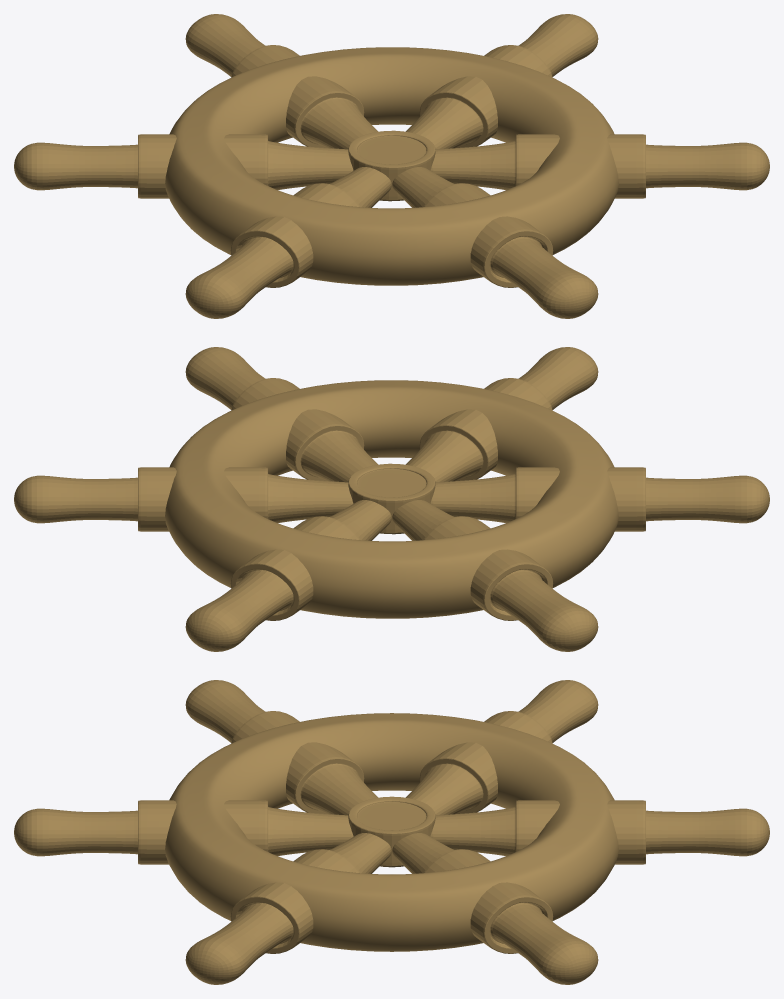
File: wheel.fbx
3 renders of one model, top to bottom at view 1: azimuth 30°, elevation 25°; view 2: azimuth 150°, elevation 25°; view 3: azimuth 270°, elevation 25°, orthographic.
Visible parts, largest first — view 1: Torus, Cube.002, Cube.005, Cube.003, Cube.004, Cube.001, Cube, Cylinder; view 2: Torus, Cube.001, Cube.004, Cube, Cube.005, Cube.002, Cube.003, Cylinder; view 3: Torus, Cube, Cube.003, Cube.001, Cube.002, Cube.004, Cube.005, Cylinder.
Part boxes in pixels (x1,y1,x2,y2): Torus: (165, 47, 618, 285); Cube.002: (430, 134, 769, 198); Cube.005: (14, 134, 353, 198); Cube.003: (392, 167, 598, 318); Cube.004: (185, 167, 391, 318); Cube.001: (406, 14, 598, 149); Cube: (185, 14, 377, 149); Cylinder: (348, 130, 435, 201); Torus: (165, 380, 618, 618); Cube.001: (14, 467, 353, 531); Cube.004: (430, 467, 769, 531); Cube: (185, 500, 391, 651); Cube.005: (392, 500, 598, 651); Cube.002: (185, 347, 377, 482); Cube.003: (406, 347, 598, 482); Cylinder: (348, 463, 435, 534); Torus: (165, 713, 618, 951); Cube: (430, 800, 769, 864); Cube.003: (14, 800, 353, 864); Cube.001: (392, 833, 598, 984); Cube.002: (185, 833, 391, 984); Cube.004: (185, 680, 377, 815); Cube.005: (406, 680, 598, 815); Cylinder: (348, 796, 435, 867).
Bounding box in the file's own units: 342 × 38.83 × 389.
